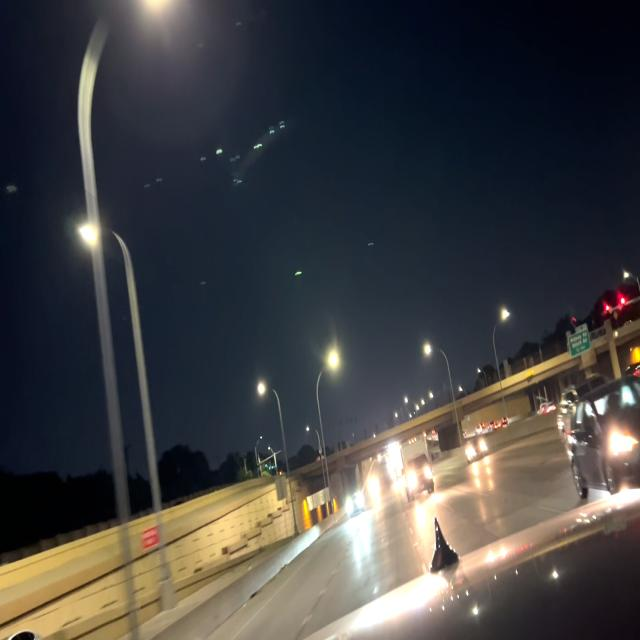back-of-sign: (274, 472, 289, 505)
